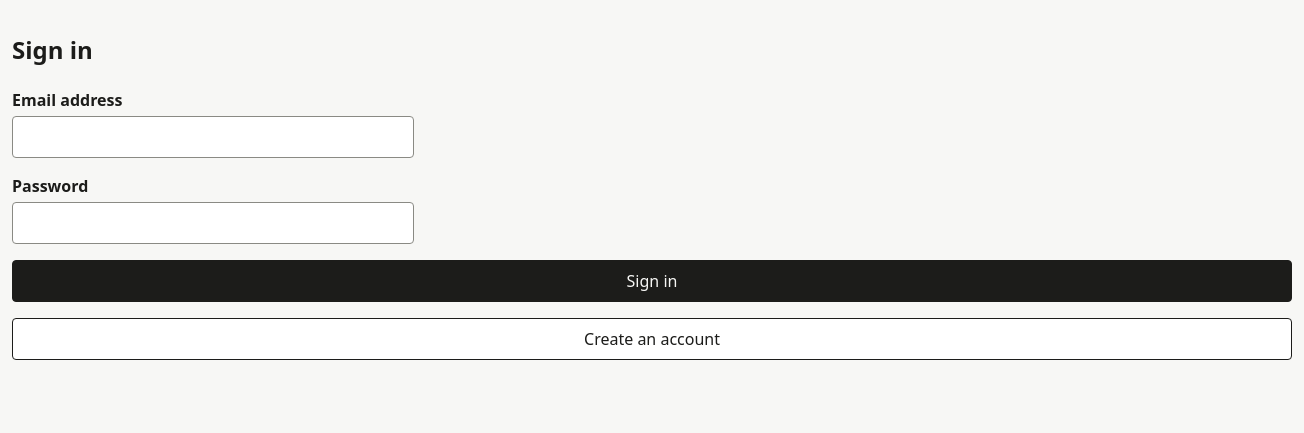
Test: Cognito sign-in screens › offers sign-out on all devices, which ends the session globally
In the field labelled "Email address": (213,137) [12,116,414,158], type "pilot.owner@example.test"
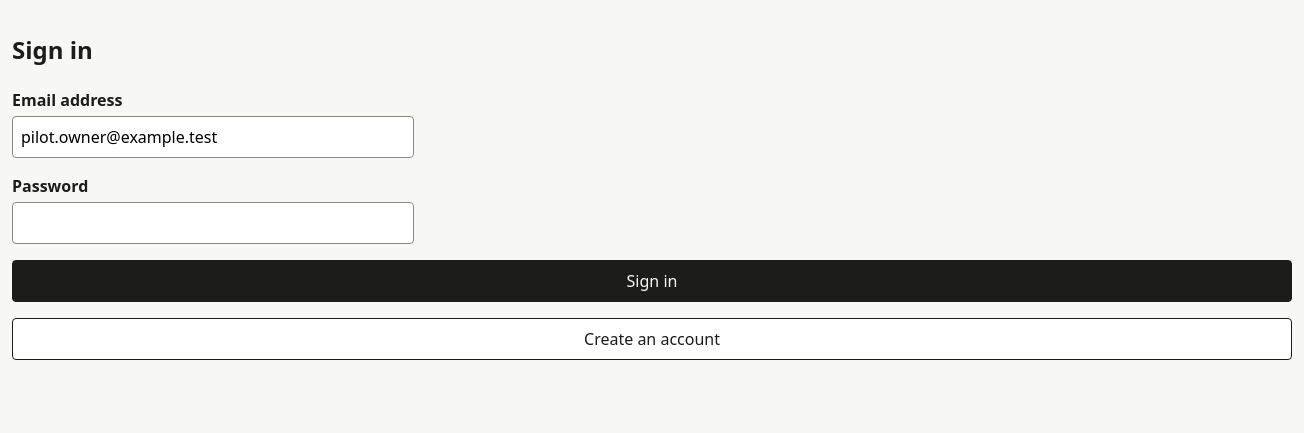
In the password field labelled "Password": (213,223) [12,202,414,244], type "Passpass-1111"
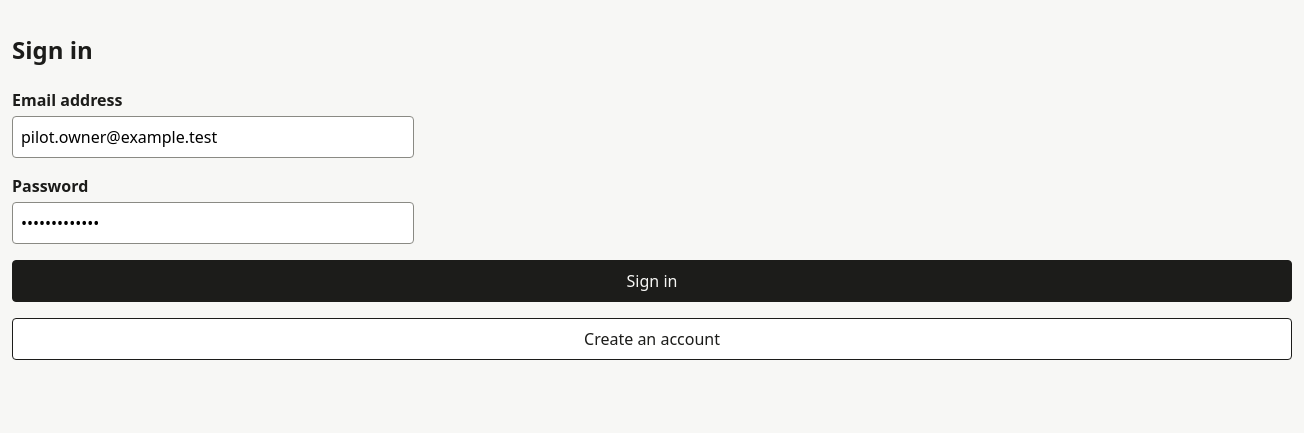
Click the button "Sign in": (652,281) [12,260,1292,302]
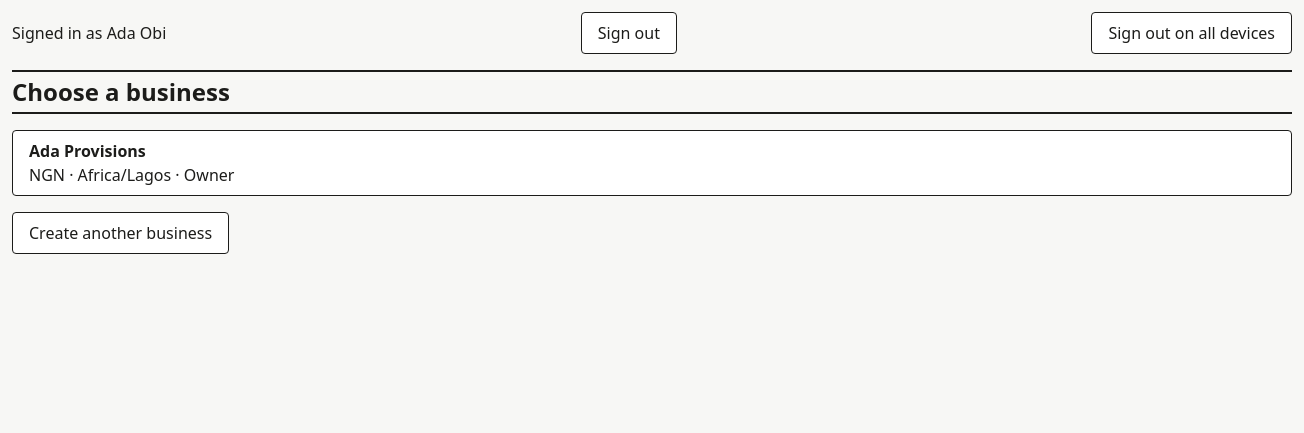
Now the heading "Choose a business" is shown, box [12,75,230,108]
Click the button "Sign out on all devices": (1192,33) [1091,12,1292,54]
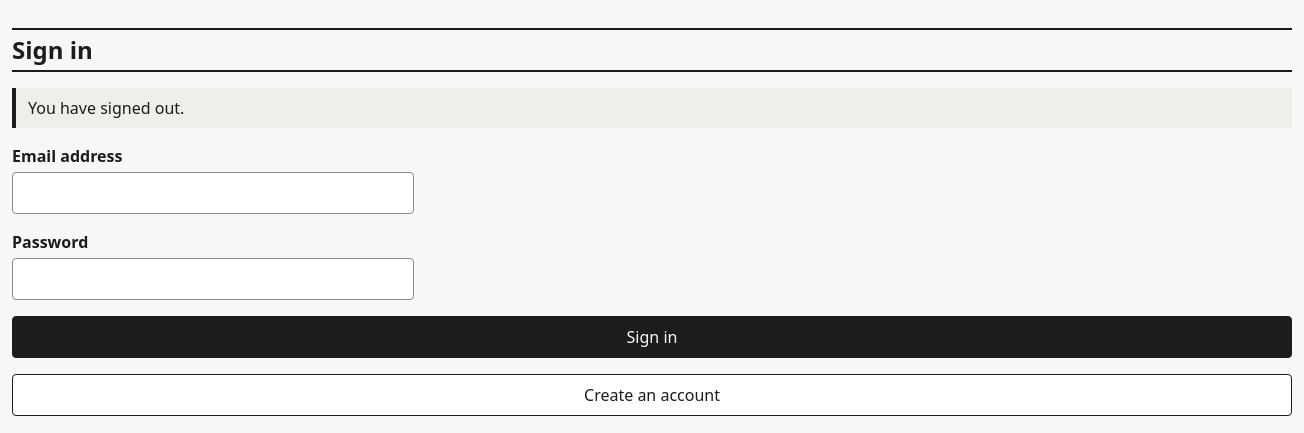
Now the heading "Sign in" is shown, box [12,33,93,66]
Now the text "You have signed out." is shown, box [12,88,1292,128]
